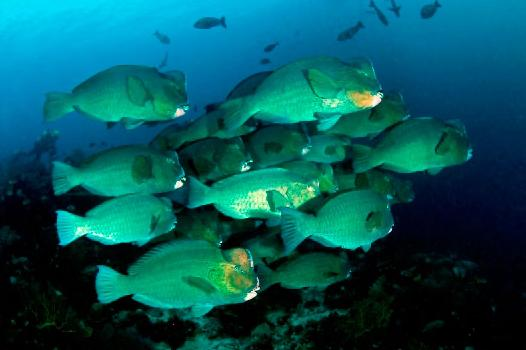Scaridae -Parrotfishes-: (220, 50, 386, 135), (92, 236, 266, 313), (37, 62, 193, 128), (343, 106, 476, 179), (274, 183, 393, 258), (179, 164, 322, 225), (48, 141, 186, 201), (50, 192, 179, 243)
